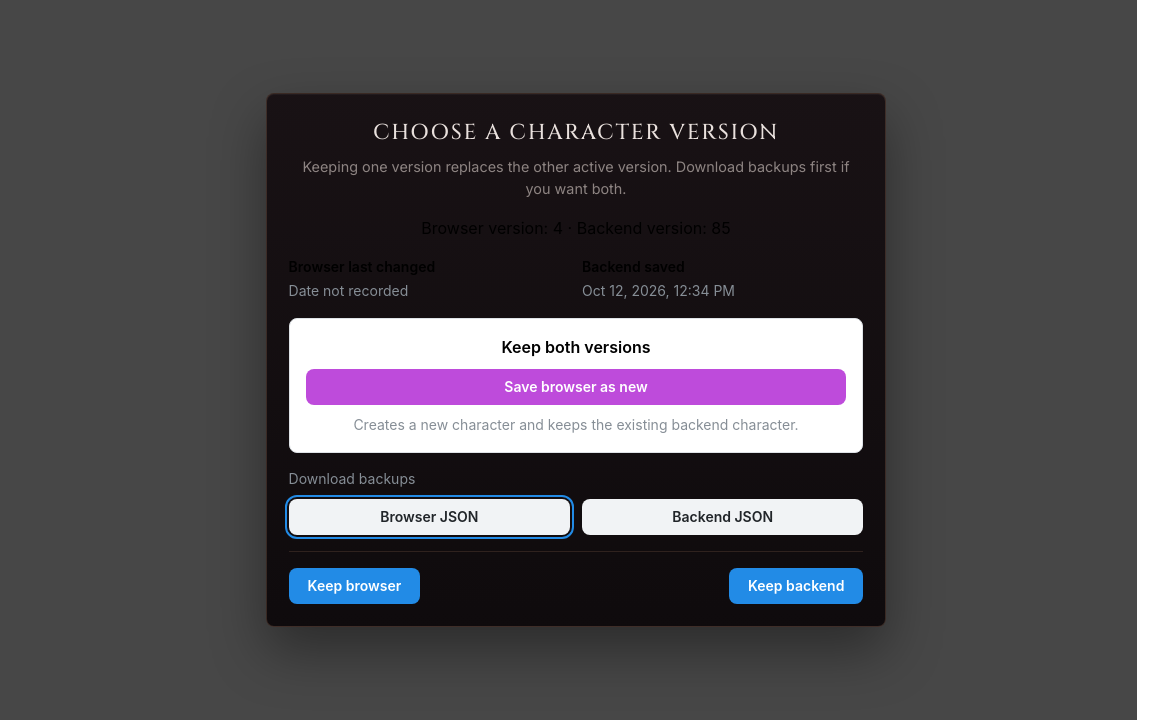
reports genuine request failures during Save browser as new resolution
The image size is (1152, 720).
Click the button "Save browser as new" at (576, 387), box [306,369,846,405]
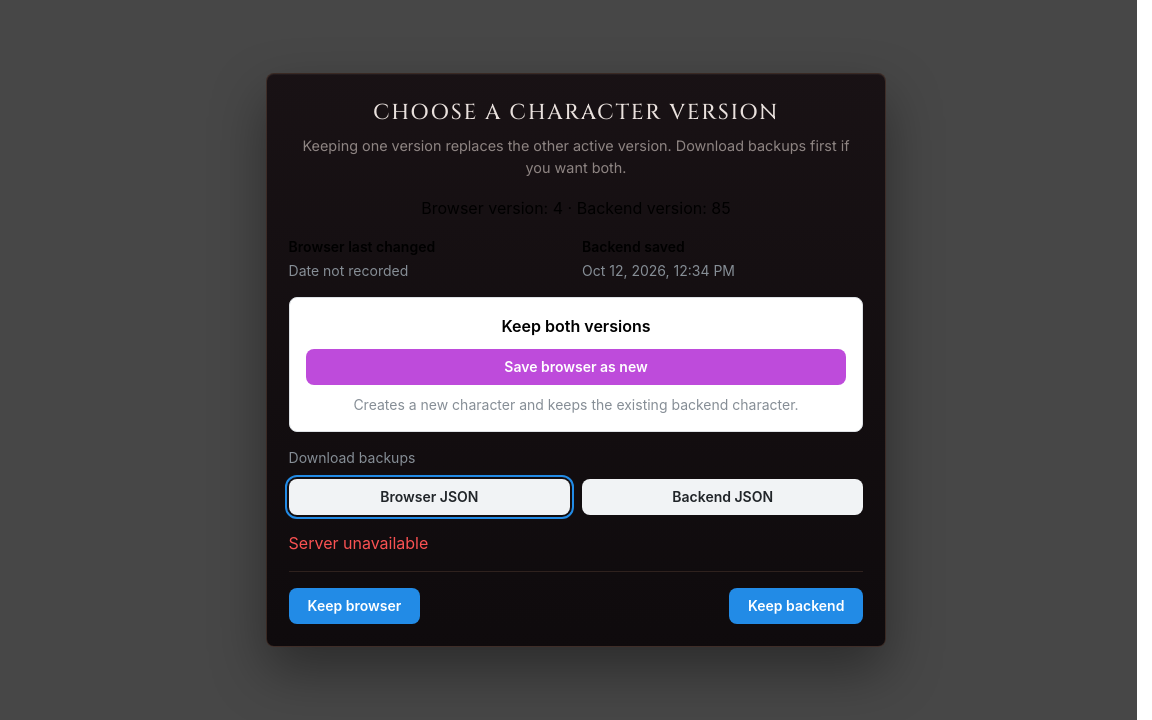
Result: the message "Server unavailable" is shown at [289,532,428,552]
